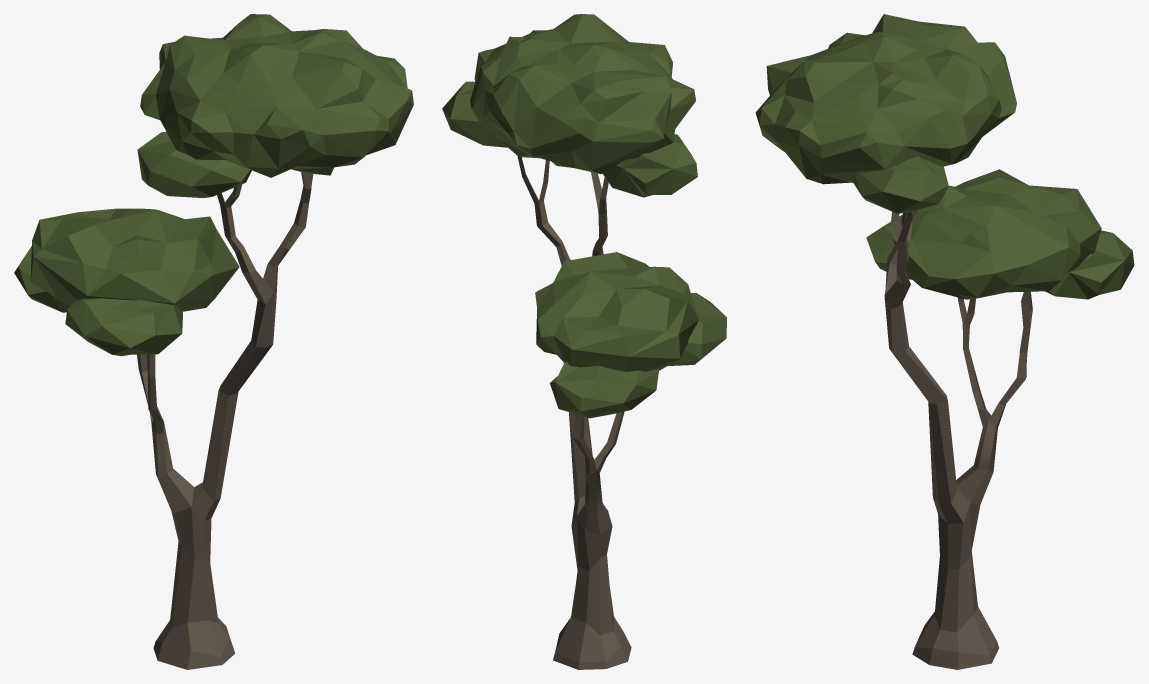
File: tree_078.fbx
3 views of the same model, side by side, from view 1: azimuth 30°, elevation 25°; view 2: azimuth 150°, elevation 25°; view 3: azimuth 270°, elevation 25° (orthographic). The views are drawn at different scales.
Parts seen in each view (by area): view 1: tree_078; view 2: tree_078; view 3: tree_078.
Part boxes in pixels (bbox=[...]): tree_078: bbox=[14, 14, 413, 669]; tree_078: bbox=[442, 14, 726, 669]; tree_078: bbox=[755, 14, 1134, 669].
Bounding box in the file's own units: 1.04 × 2.01 × 1.09.
1 material, 1 textured.
